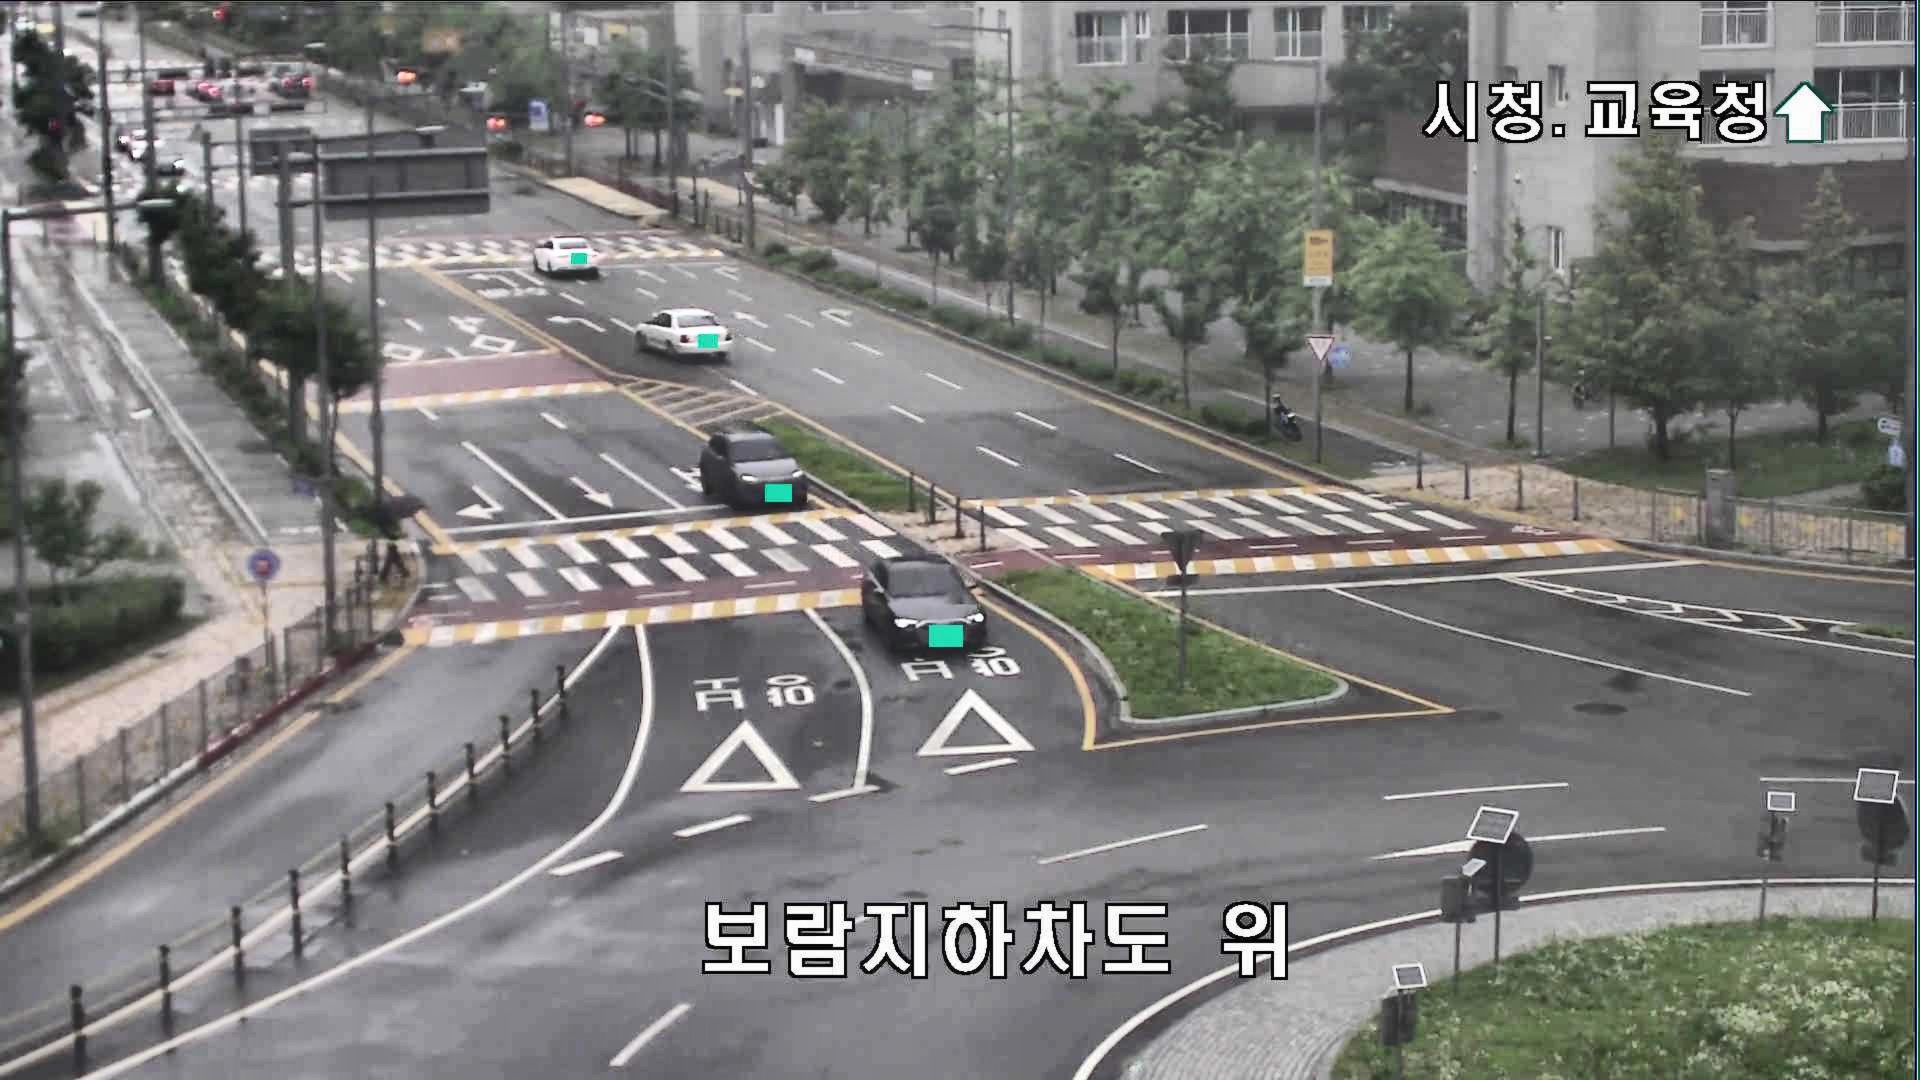um_sidewalk: (363, 498, 423, 579)
